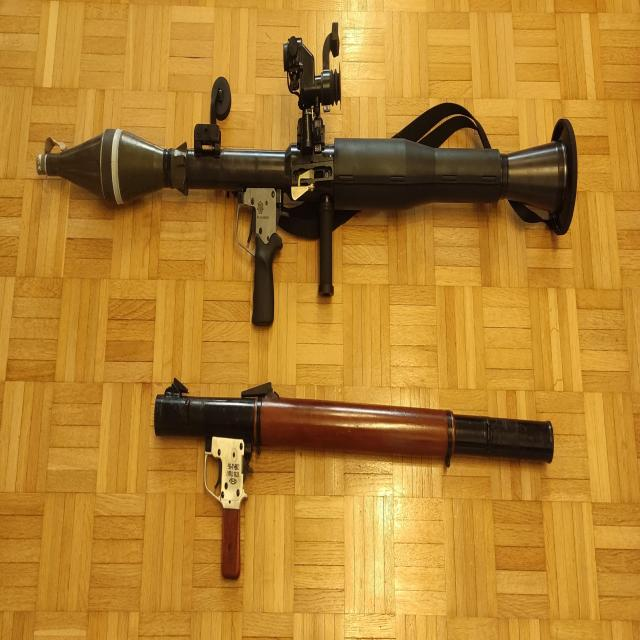Gun: (42, 84, 588, 348)
